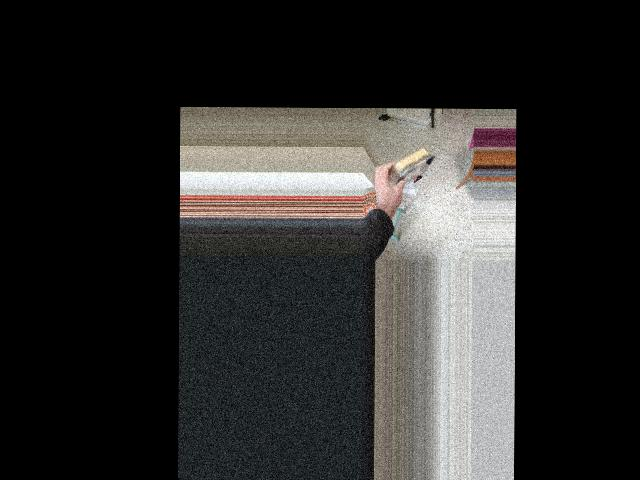cheese: (367, 138, 443, 199)
